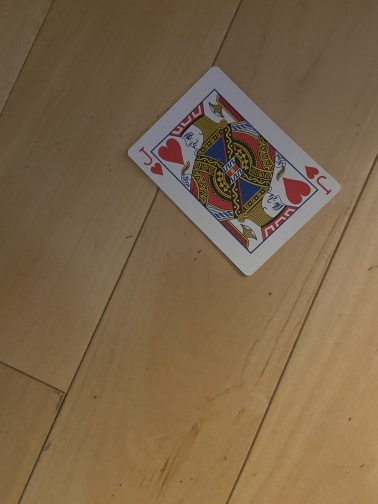jack: (126, 65, 342, 280)
